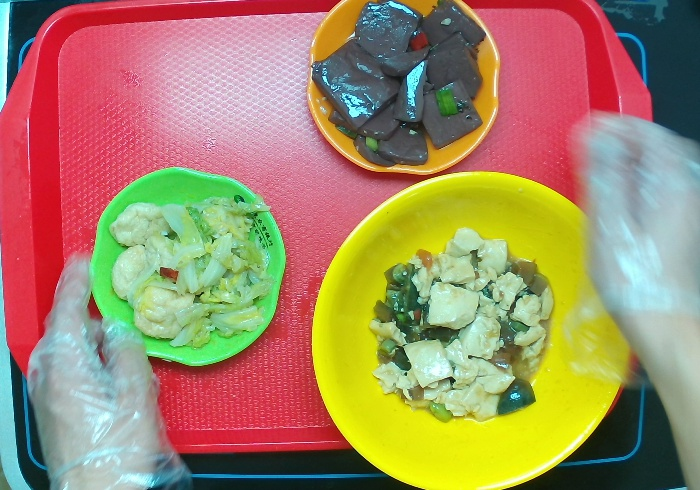YKMZ-Huang_Se_Tang_Wan: (310, 170, 633, 490)
YKMZ-Ju_Se_Ao_Bian_Wan: (303, 1, 498, 176)
YKMZ-Lv_Se_Ao_Bian_Wan: (90, 165, 286, 369)
